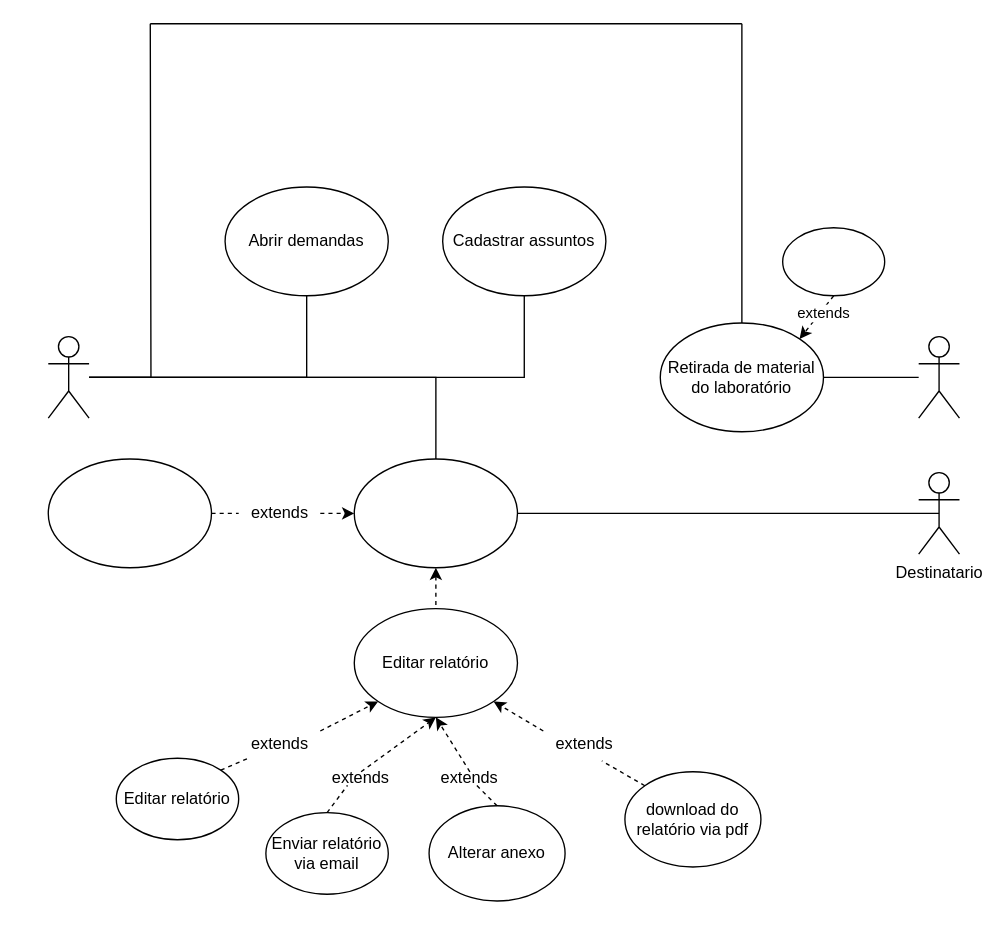
Image size: 1006x925. Some labels were removed from this diagram. Here are the shapes that lost their labels. From the top down, the box of each, then its label:
(781, 226, 885, 296): Avaliar atendimento
(47, 335, 89, 418): Gestor geral
(917, 335, 959, 418): Aluno
(47, 458, 211, 568): Anexar arquivos
(353, 458, 517, 568): Gerar relatório de entrada
